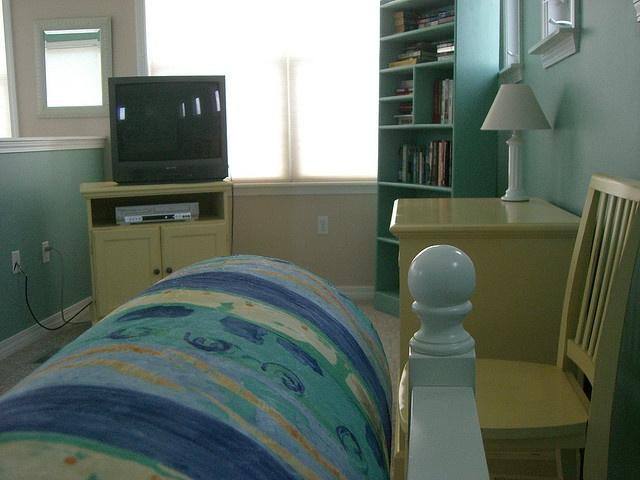Kursi: (473, 171, 638, 477)
Rak: (375, 0, 501, 197)
